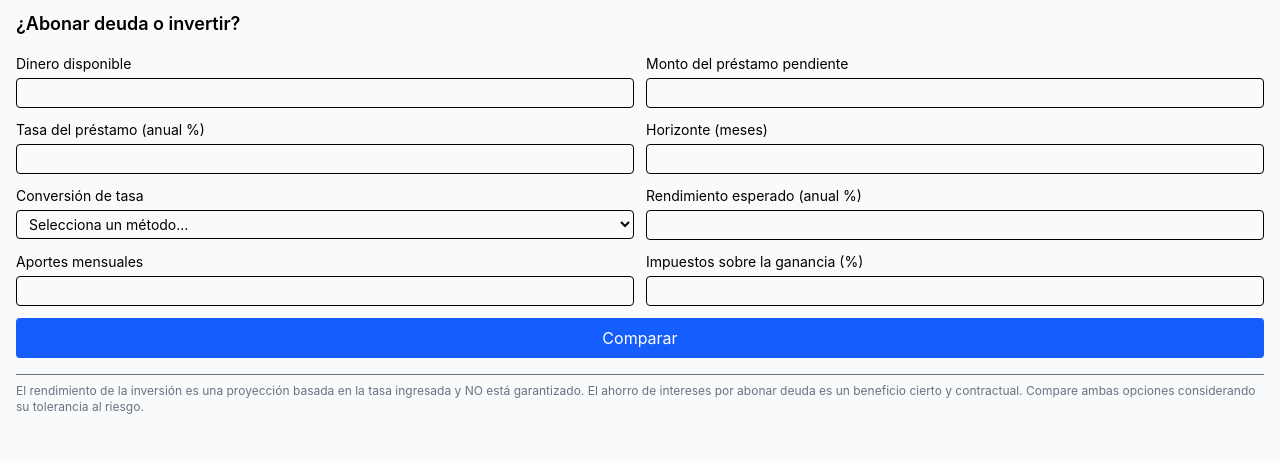
Test: DebtVsInvestmentPanel › debe mostrar un error cuando falta el método de conversión de tasa
What coordinates should you click on to do the following:
click the button "Comparar"
I would click on:
 (640, 338)
Its box is [16,318,1264,358].
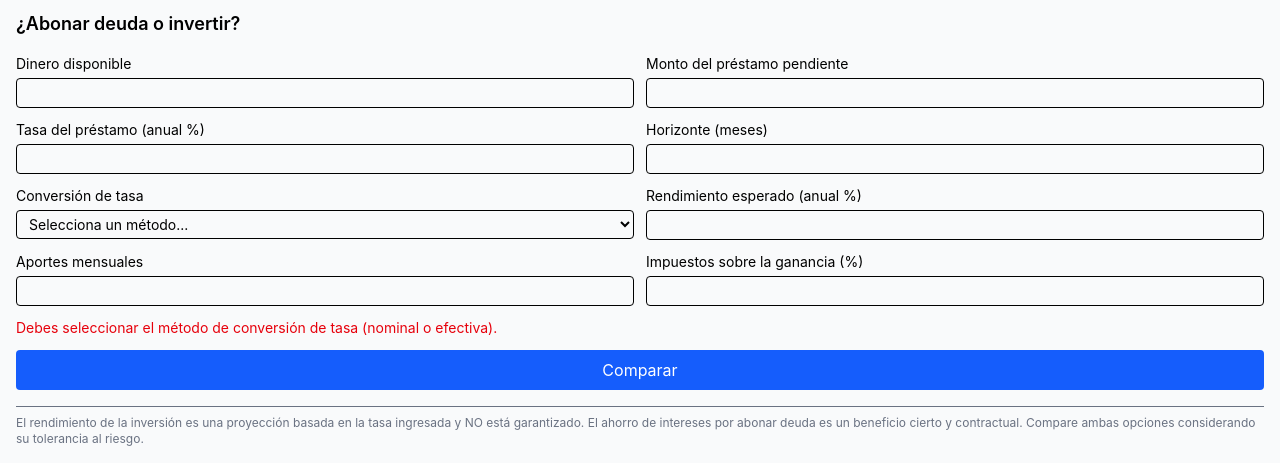
Result: the message "Debes seleccionar el método de conversión de tasa (nominal o efectiva)." is shown at [16,319,497,336]
